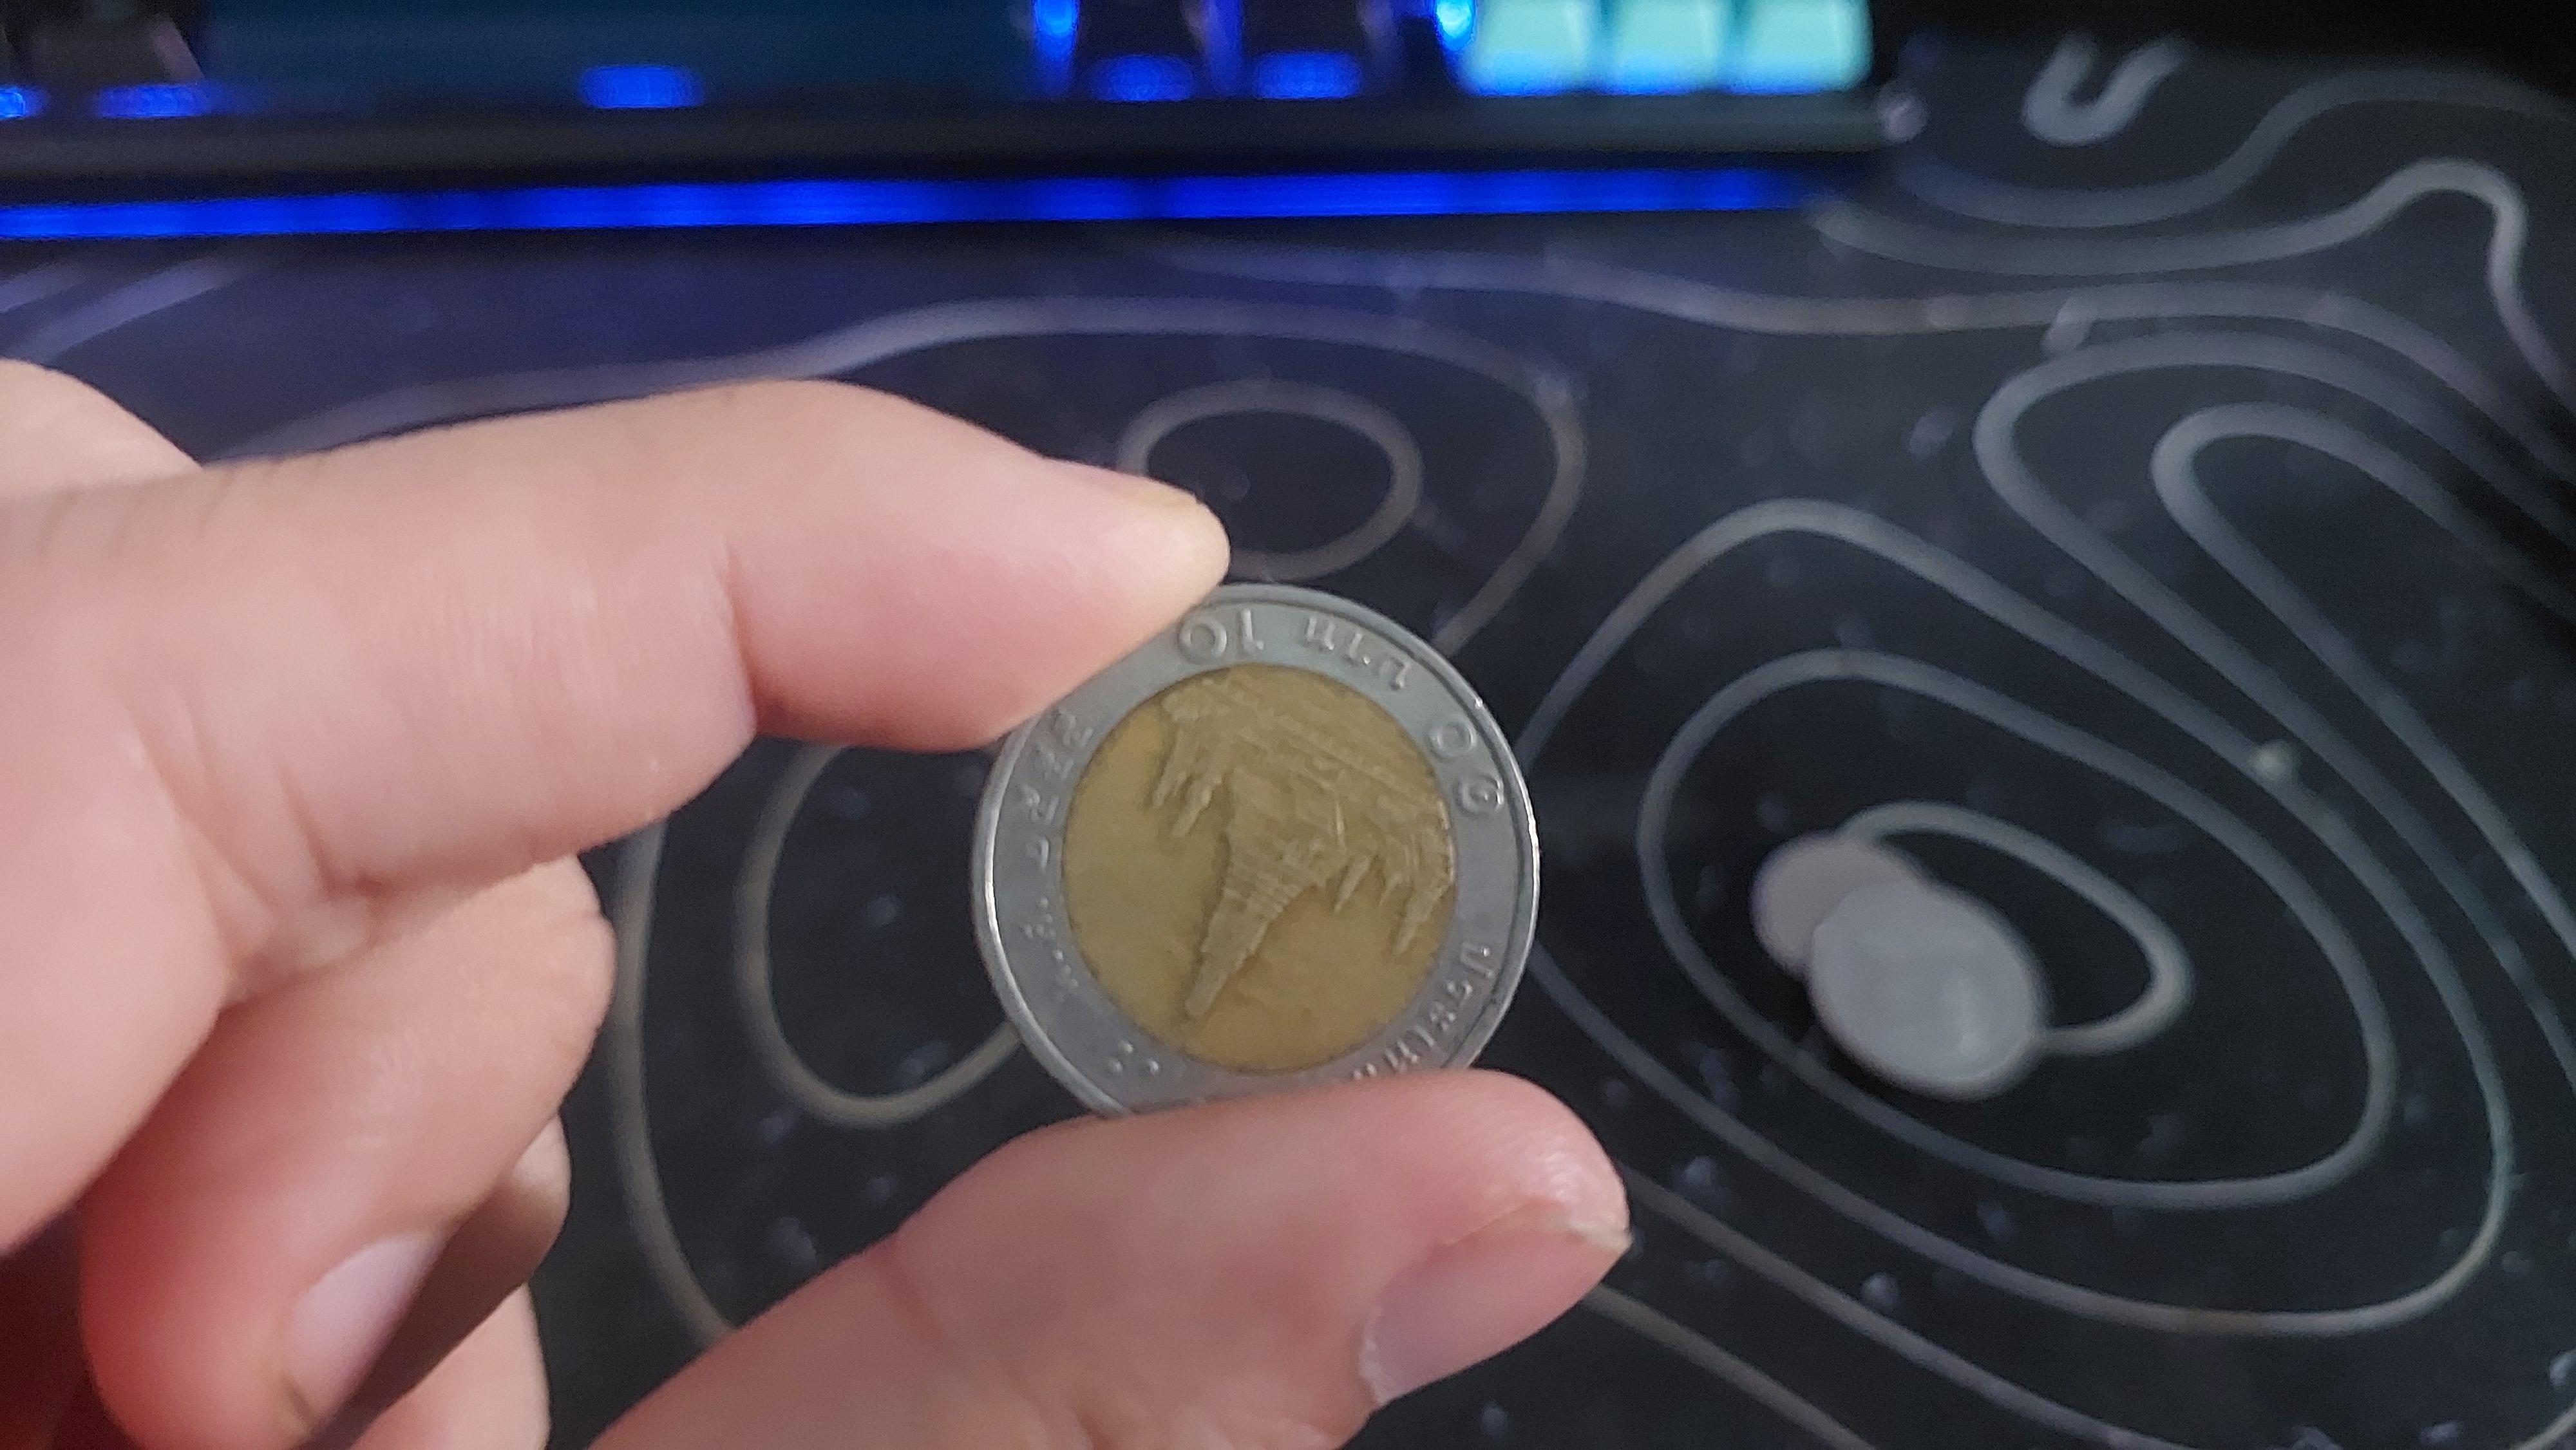10baht: (902, 529, 1691, 1227)
